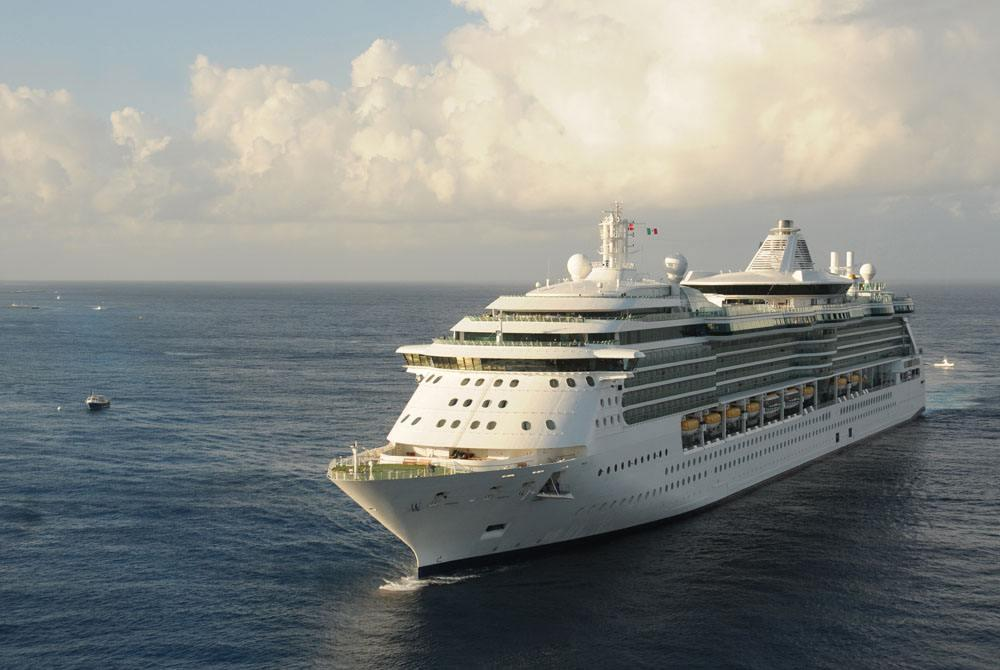otherboat: (81, 390, 113, 408)
youlun: (324, 211, 929, 567)
